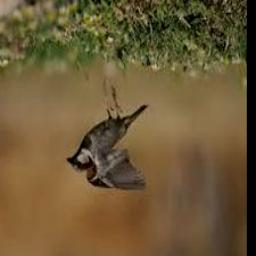Sparrow: (67, 79, 149, 191)
